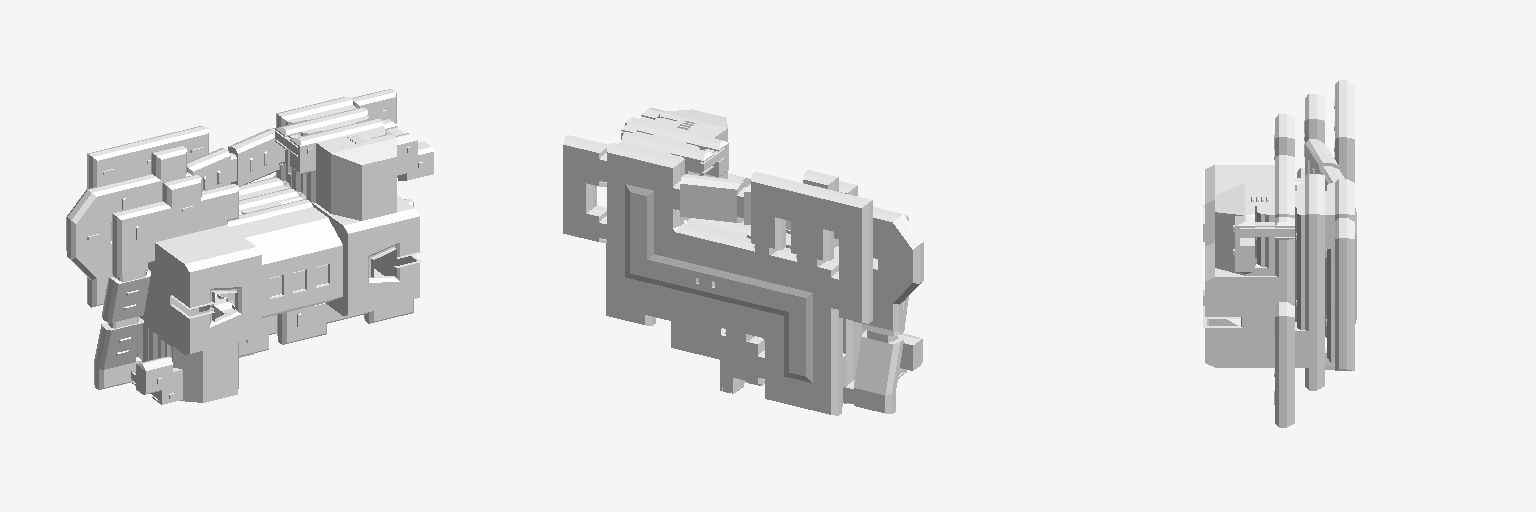
File: prisoner_Lightmap.obj
3 renders of one model, left to right at view 1: azimuth 30°, elevation 25°; view 2: azimuth 150°, elevation 25°; view 3: azimuth 270°, elevation 25°, orthographic.
Visible parts, largest first — view 1: prisoner_Lightmap_1, prisoner_Lightmap_0; view 2: prisoner_Lightmap_1, prisoner_Lightmap_0; view 3: prisoner_Lightmap_0, prisoner_Lightmap_1.
Part boxes in pixels (x1,y1,x2,y2): prisoner_Lightmap_1: (66, 89, 433, 404); prisoner_Lightmap_0: (87, 97, 433, 404); prisoner_Lightmap_1: (563, 109, 923, 414); prisoner_Lightmap_0: (599, 108, 922, 415); prisoner_Lightmap_0: (1203, 80, 1356, 427); prisoner_Lightmap_1: (1203, 81, 1354, 426).
Bounding box in the file's own units: 2360 × 1460 × 924.